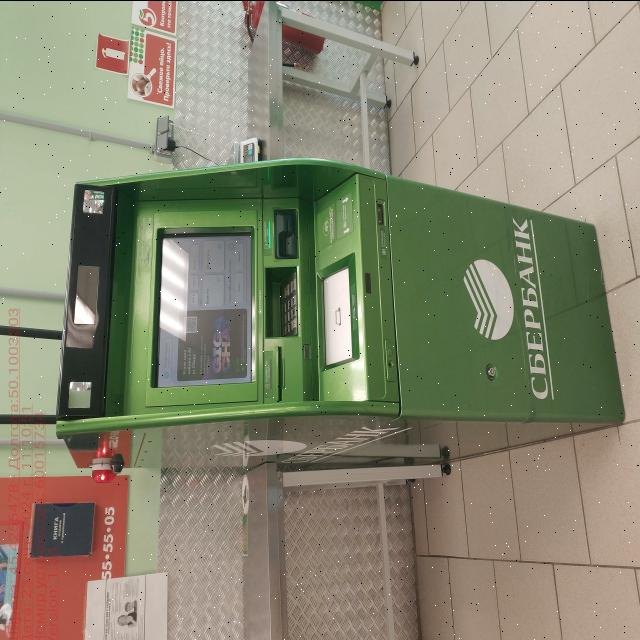bank: (55, 156, 624, 470)
